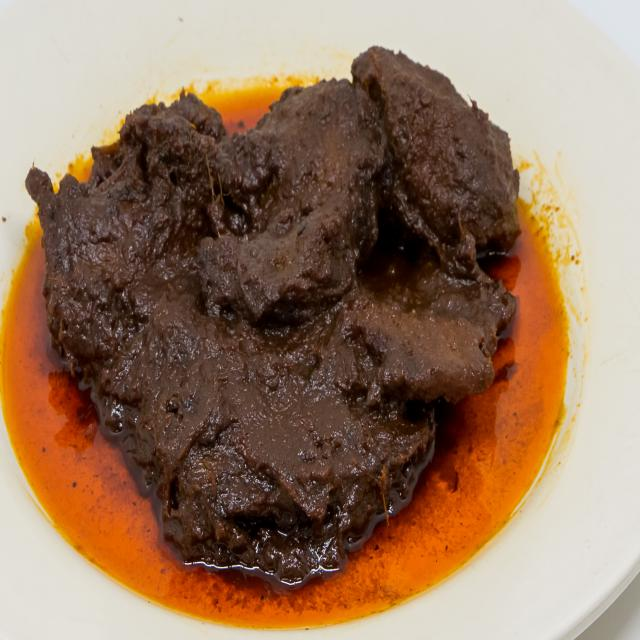Rendang: (18, 29, 536, 597)
